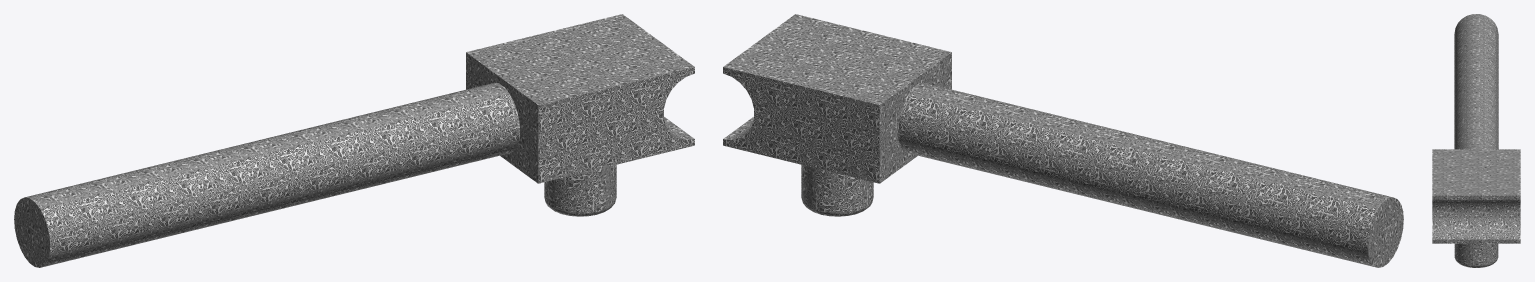
File: Lever.obj
The picture shows the model from 3 angles, left to right: view 1: azimuth 30°, elevation 25°; view 2: azimuth 150°, elevation 25°; view 3: azimuth 270°, elevation 25°; orthographic projection. The views are drawn at different scales.
Visible parts, largest first — view 1: Lever; view 2: Lever; view 3: Lever.
Boxes of the visible parts, x1,y1,x2,y2 form: Lever: (14, 14, 694, 267); Lever: (723, 14, 1403, 267); Lever: (1432, 14, 1520, 267).
Bounding box in the file's own units: 200 × 44 × 40.
1 material, 1 textured.
